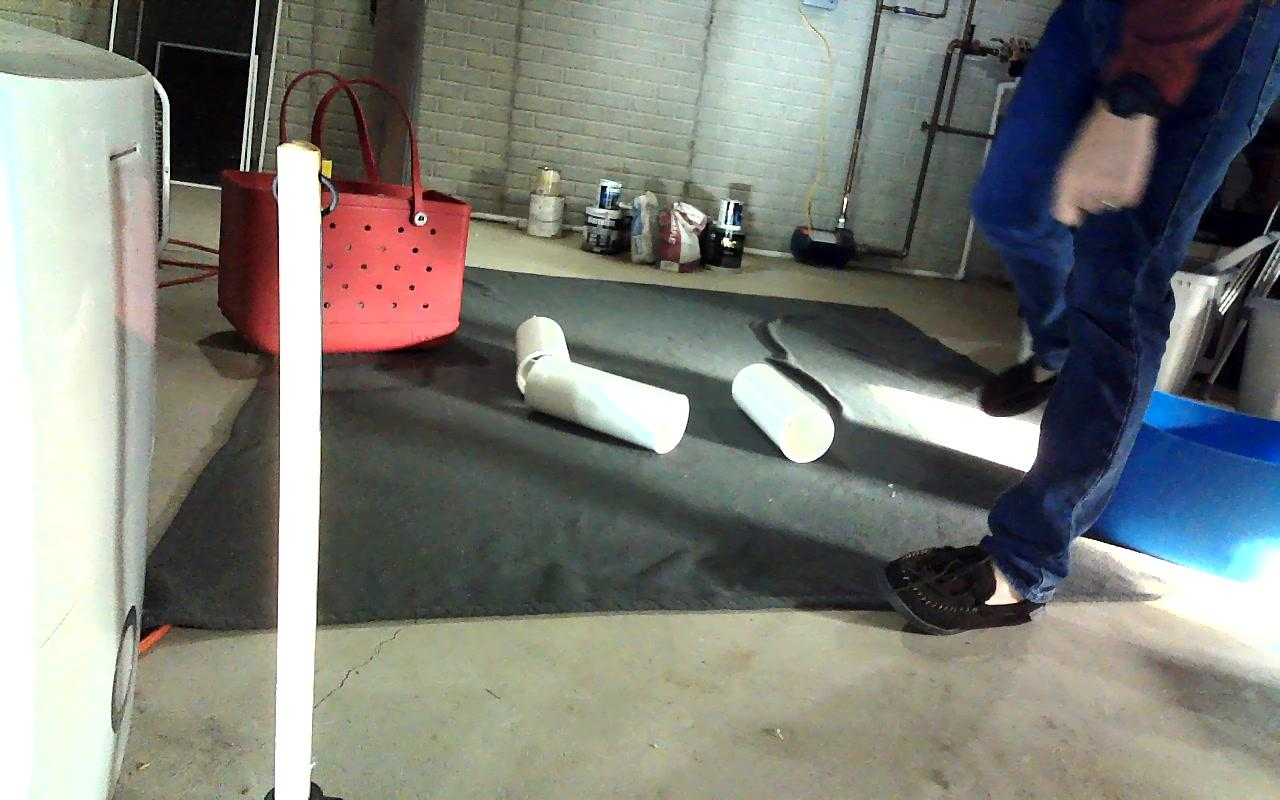coral: (516, 357, 688, 452), (731, 361, 834, 462), (513, 317, 567, 397)
